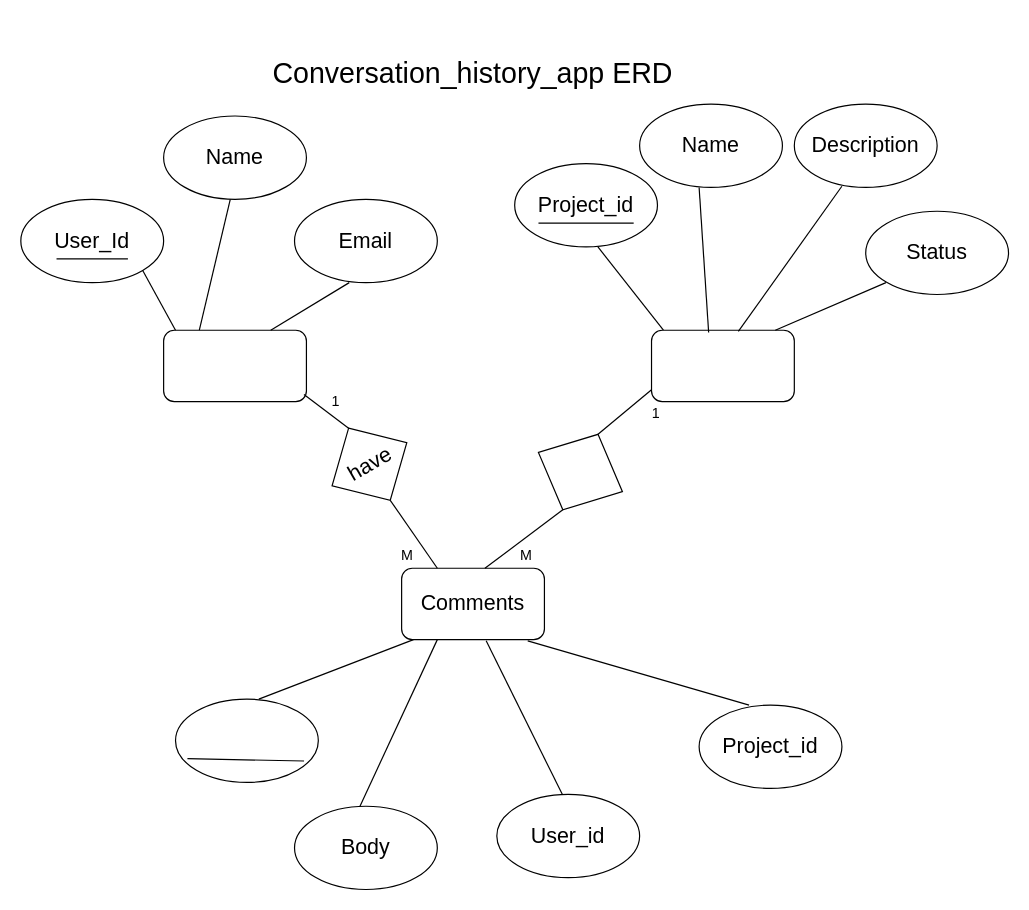
Image size: 1029x910. Some labels were removed from this diagram. Each missing label, with the centre of its shape:
"Comment_id" belongs at point (246, 740).
"contains" belongs at point (579, 471).
"Projects" belongs at point (722, 365).
"Users" belongs at point (234, 365).
